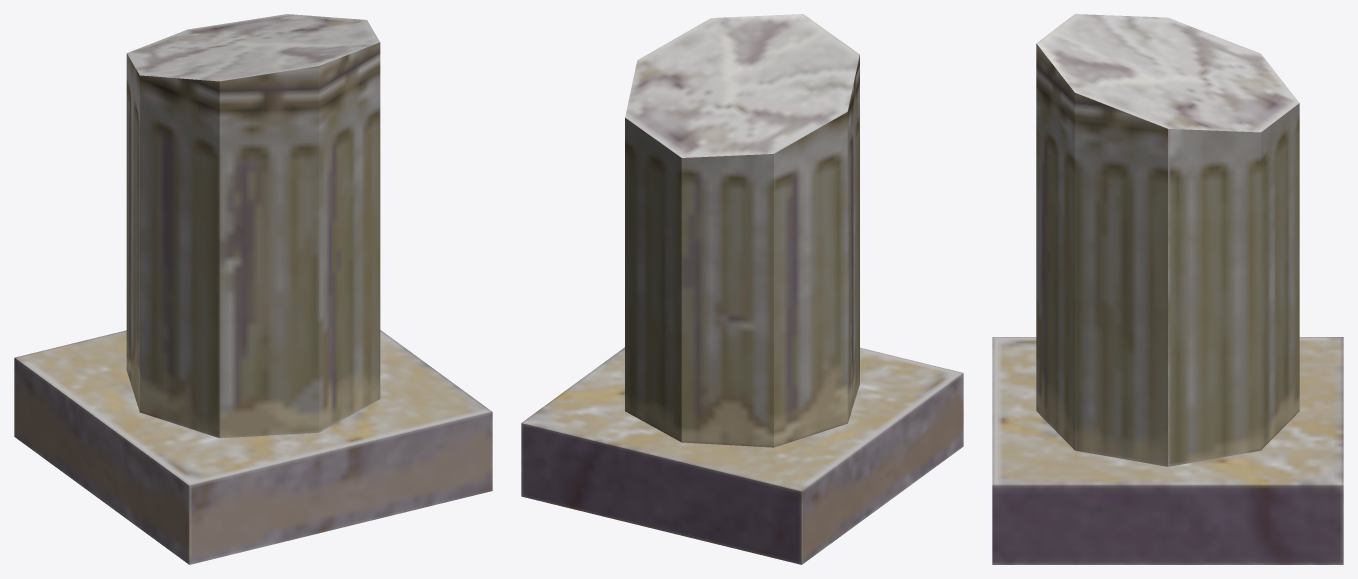
File: pillar.dae
3 renders of one model, left to right at view 1: azimuth 30°, elevation 25°; view 2: azimuth 150°, elevation 25°; view 3: azimuth 270°, elevation 25°, orthographic. The views are drawn at different scales.
Visible parts, largest first — view 1: pillar; view 2: pillar; view 3: pillar.
Boxes of the visible parts, x1,y1,x2,y2 form: pillar: [14, 14, 492, 564]; pillar: [521, 14, 963, 564]; pillar: [992, 14, 1343, 564].
Bounding box in the file's own units: 1.6 × 1.6 × 2.25.
1 material, 1 textured.
